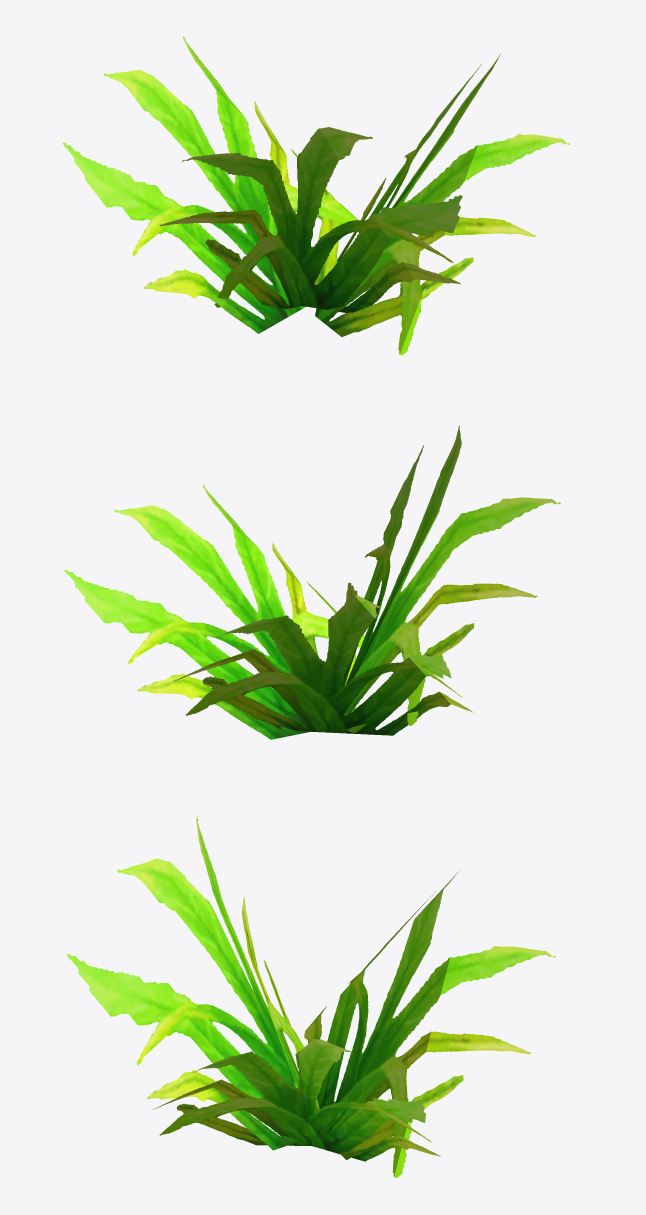
Rendered from shatan_cao03.fbx.
3 views of the same model, one above another, from view 1: azimuth 30°, elevation 25°; view 2: azimuth 150°, elevation 25°; view 3: azimuth 270°, elevation 25° (orthographic). The views are drawn at different scales.
Parts seen in each view (by area): view 1: shatan_cao03; view 2: shatan_cao03; view 3: shatan_cao03.
Boxes of the visible parts, x1,y1,x2,y2 form: shatan_cao03: [63, 35, 569, 355]; shatan_cao03: [64, 425, 560, 739]; shatan_cao03: [67, 816, 555, 1177].
Bounding box in the file's own units: 1.19 × 0.6414 × 1.22.
